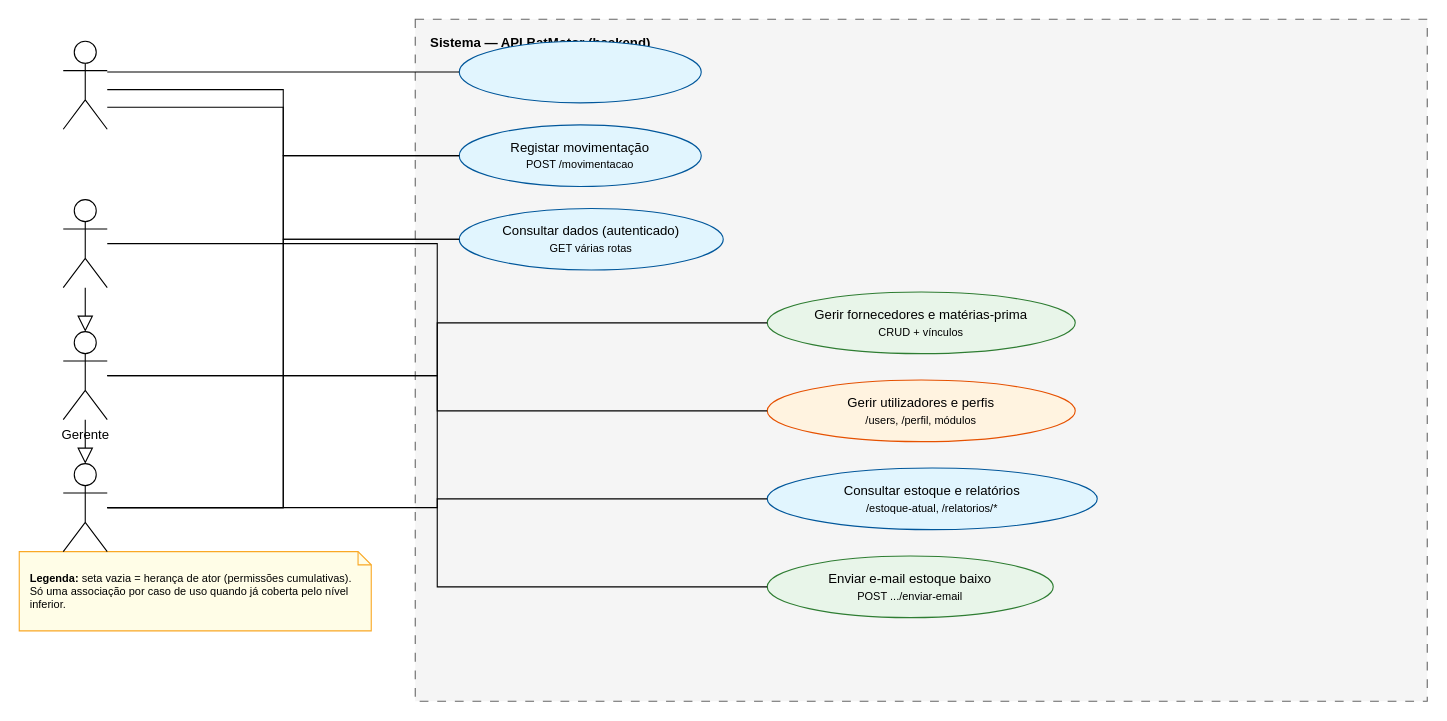
This 1447x721 diagram has some shape labels left out. The box of each missing label's shape, as (x1, y1, x2, y2) in pixels:
Administrador: (62, 199, 107, 288)
Autenticar-se POST /auth/login: (458, 40, 701, 103)
Cliente HTTP: (62, 40, 107, 129)
Funcionário: (62, 463, 107, 552)
